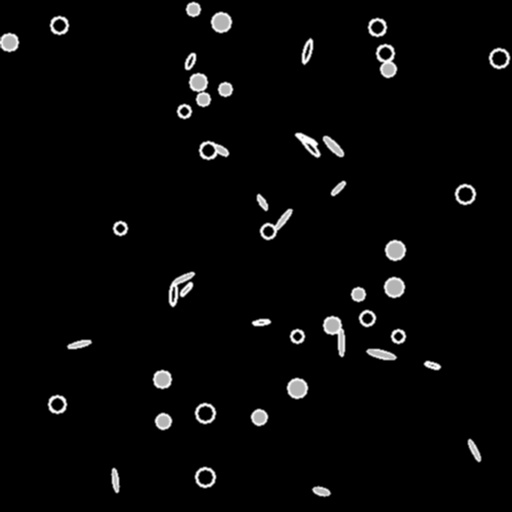pseudomonas: (321, 134, 345, 158), (297, 133, 321, 157), (273, 208, 293, 230), (300, 38, 314, 64), (366, 348, 396, 360), (295, 132, 317, 146), (172, 271, 194, 285), (467, 439, 481, 461), (178, 281, 194, 297), (330, 180, 346, 196), (255, 193, 269, 211), (67, 339, 91, 349), (213, 143, 229, 157), (184, 52, 196, 70), (312, 485, 330, 497), (169, 282, 177, 306), (111, 468, 119, 492), (338, 329, 344, 355), (252, 318, 270, 326), (424, 361, 440, 369)
synechocystis: (456, 185, 474, 203), (490, 49, 508, 67), (196, 468, 214, 486), (288, 379, 306, 397), (385, 278, 403, 296), (386, 241, 404, 259), (212, 13, 230, 31), (196, 404, 214, 422), (324, 317, 340, 333), (190, 74, 206, 90), (51, 17, 67, 33), (369, 19, 385, 35), (1, 34, 17, 50), (154, 371, 170, 387), (49, 396, 65, 412), (200, 142, 216, 158), (377, 45, 393, 61), (261, 224, 275, 238), (156, 414, 170, 428), (252, 410, 266, 424), (381, 62, 395, 76), (360, 311, 374, 325), (219, 83, 231, 95), (291, 330, 303, 342), (187, 3, 199, 15), (352, 288, 364, 300), (178, 105, 190, 117), (114, 222, 126, 234), (197, 93, 209, 105), (392, 330, 404, 342)
